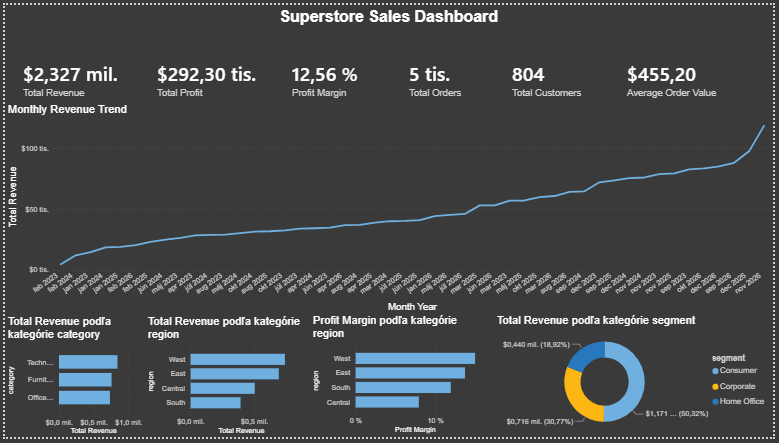

The page's visual inventory and layout, read from the dashboard file:
{"tool":"powerbi","page":{"name":"Executive overview","canvas":[1280,720],"ordinal":0},"visuals":[{"type":"cardVisual","fields":{"Data":["KPI.Total Revenue"]},"box":[0,69,234,109],"z":0},{"type":"cardVisual","fields":{"Data":["KPI.Total Profit"]},"box":[223,69,226,109],"z":1000},{"type":"cardVisual","fields":{"Data":["KPI.Profit Margin"]},"box":[449,69,191,109],"z":2000},{"type":"cardVisual","fields":{"Data":["KPI.Total Orders"]},"box":[643,69,172,109],"z":3000},{"type":"textbox","box":[366.2,0,545.9,47],"z":4000},{"type":"cardVisual","fields":{"Data":["KPI.Total Customers"]},"box":[815,69,191,109],"z":5000},{"type":"cardVisual","fields":{"Data":["KPI.Average Order Value"]},"box":[1006,69,212,109],"z":6000},{"type":"lineChart","title":"Monthly Revenue Trend","fields":{"Y":["KPI.Total Revenue"],"Category":["Calendar.Year-Month"]},"box":[0,163,1280,353],"z":7000},{"type":"clusteredBarChart","fields":{"Y":["KPI.Total Revenue"],"Category":["Sales.category"]},"box":[0,516,234,205],"z":8000},{"type":"clusteredBarChart","fields":{"Y":["KPI.Total Revenue"],"Category":["Sales.region"]},"box":[234,516,274,204],"z":9000},{"type":"donutChart","fields":{"Y":["KPI.Total Revenue"],"Category":["Sales.segment"]},"box":[815.6,515.6,464.4,204.4],"z":10000},{"type":"clusteredBarChart","fields":{"Category":["Sales.region"],"Y":["KPI.Profit Margin"]},"box":[508.9,515.6,294.4,204.4],"z":11000}]}

Visuals, with their boxes in screenshot pixels (x1, y1, x2, y2), scaled from the page's 1280x720 canvas onto the 779x443 screenshot:
cardVisual - KPI.Total Revenue: box(0, 42, 142, 110)
cardVisual - KPI.Total Profit: box(136, 42, 273, 110)
cardVisual - KPI.Profit Margin: box(273, 42, 390, 110)
cardVisual - KPI.Total Orders: box(391, 42, 496, 110)
textbox: box(223, 0, 555, 29)
cardVisual - KPI.Total Customers: box(496, 42, 612, 110)
cardVisual - KPI.Average Order Value: box(612, 42, 741, 110)
"Monthly Revenue Trend" lineChart: box(0, 100, 778, 317)
clusteredBarChart - KPI.Total Revenue x Sales.category: box(0, 317, 142, 442)
clusteredBarChart - KPI.Total Revenue x Sales.region: box(142, 317, 309, 442)
donutChart - KPI.Total Revenue x Sales.segment: box(496, 317, 778, 442)
clusteredBarChart - Sales.region x KPI.Profit Margin: box(310, 317, 489, 442)
